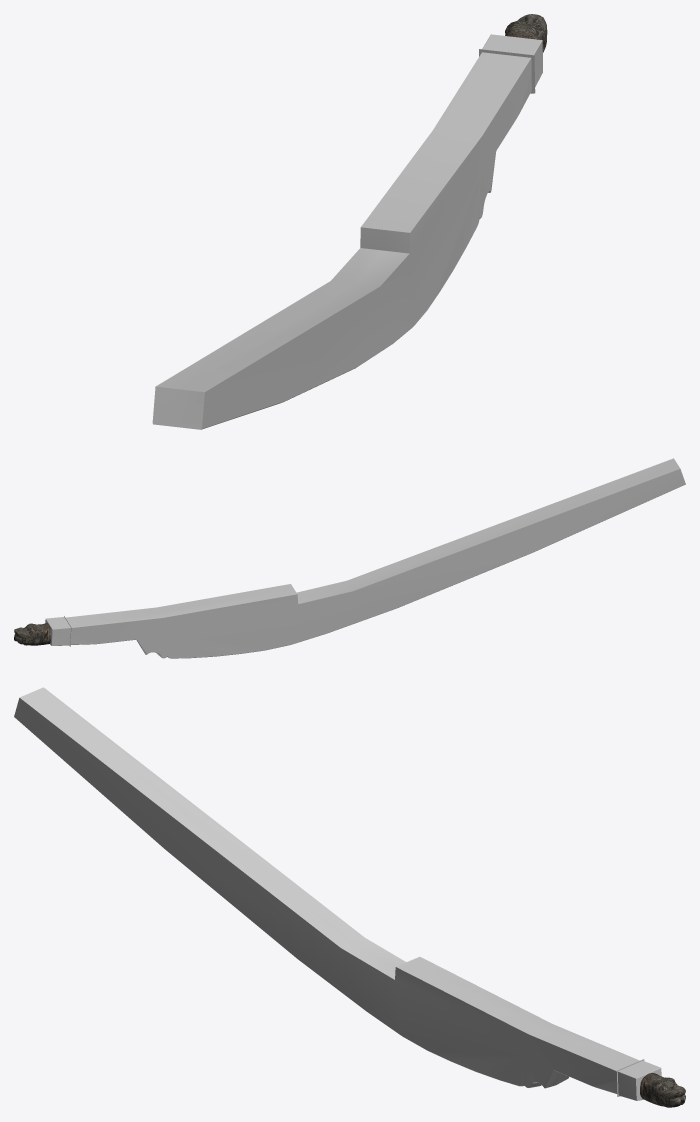
File: SM_GJM_2F_AngleRafter01A.fbx
The picture shows the model from 3 angles, top to bottom: view 1: azimuth 30°, elevation 25°; view 2: azimuth 150°, elevation 25°; view 3: azimuth 270°, elevation 25°; orthographic projection. The views are drawn at different scales.
Visible parts, largest first — view 1: SM_GJM_2F_AngleRafter01A; view 2: SM_GJM_2F_AngleRafter01A; view 3: SM_GJM_2F_AngleRafter01A.
Boxes of the visible parts, box(x1,y1,x2,y2) form: SM_GJM_2F_AngleRafter01A: box(152, 14, 547, 429); SM_GJM_2F_AngleRafter01A: box(14, 458, 685, 658); SM_GJM_2F_AngleRafter01A: box(14, 687, 685, 1107).
Bounding box in the file's own units: 640 × 640 × 193.
